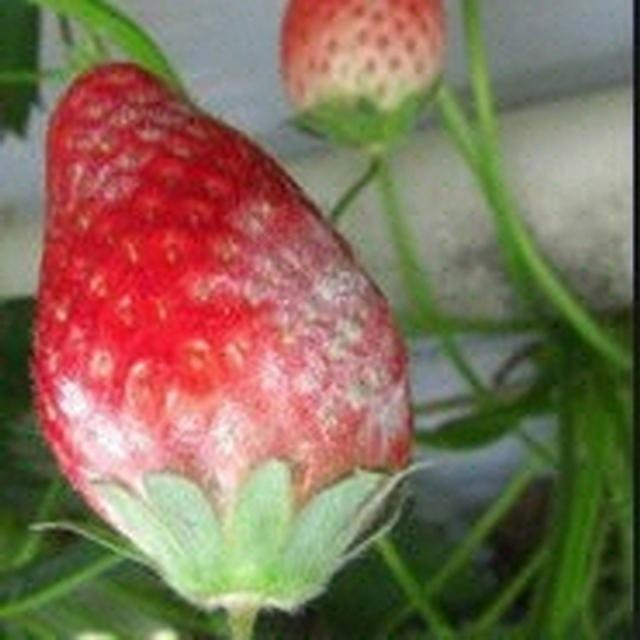Powdery Mildew Fruit: (28, 62, 430, 615)
